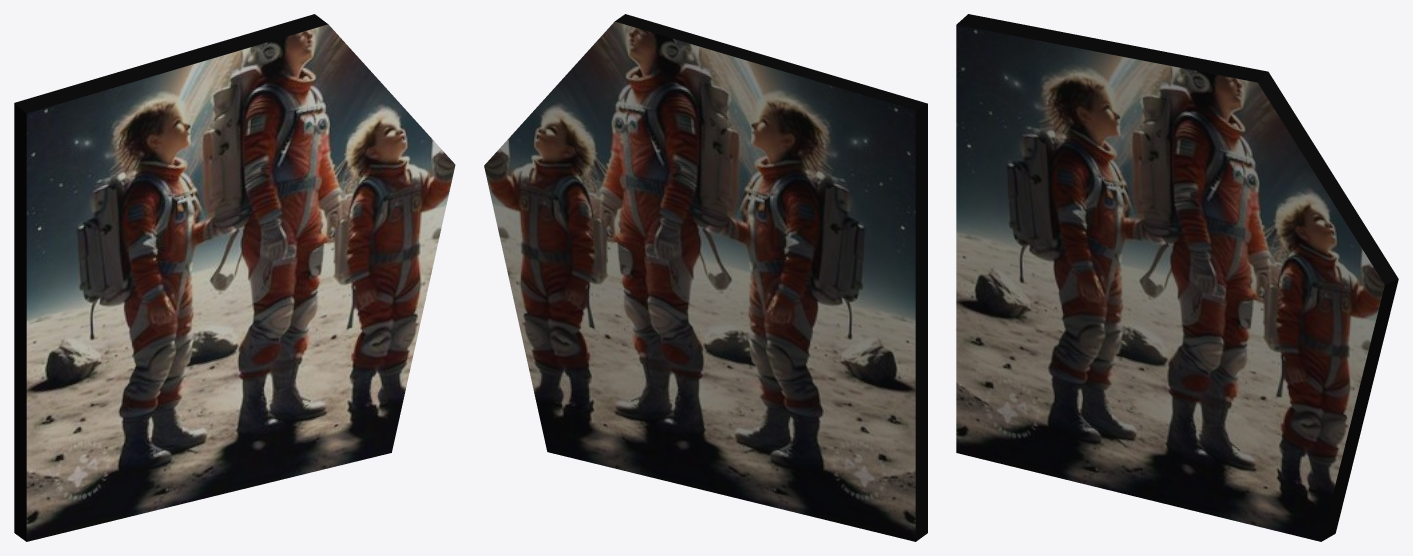
The model's file is Puzzle_1_Cell_04.glb.
3 views of the same model, side by side, from view 1: azimuth 30°, elevation 25°; view 2: azimuth 150°, elevation 25°; view 3: azimuth 330°, elevation 25° (orthographic).
Visible parts, largest first — view 1: Puzzle_1_cell.004; view 2: Puzzle_1_cell.004; view 3: Puzzle_1_cell.004.
Boxes of the visible parts, bbox=[...] form: Puzzle_1_cell.004: bbox=[14, 14, 455, 541]; Puzzle_1_cell.004: bbox=[484, 14, 927, 541]; Puzzle_1_cell.004: bbox=[956, 14, 1398, 541].
Bounding box in the file's own units: 3.08 × 3.04 × 0.15.
2 materials, 1 textured.
